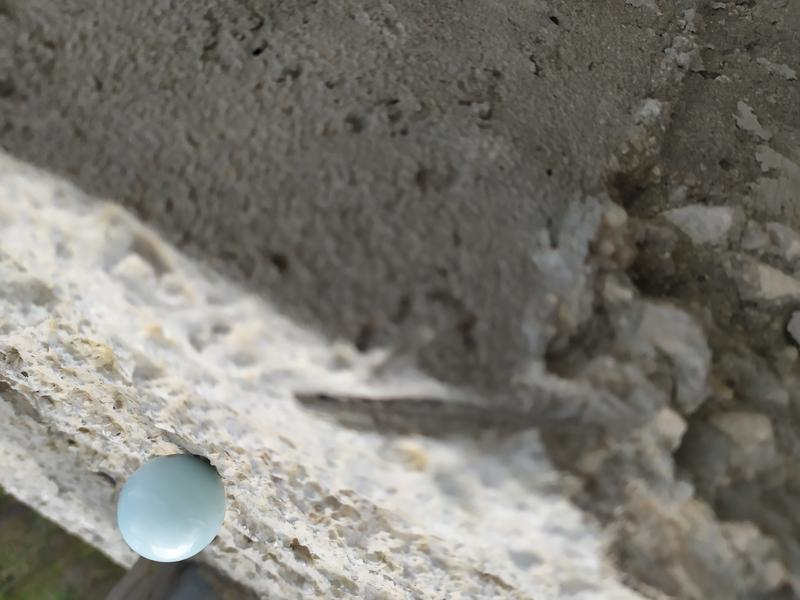Warning: (114, 447, 230, 566)
